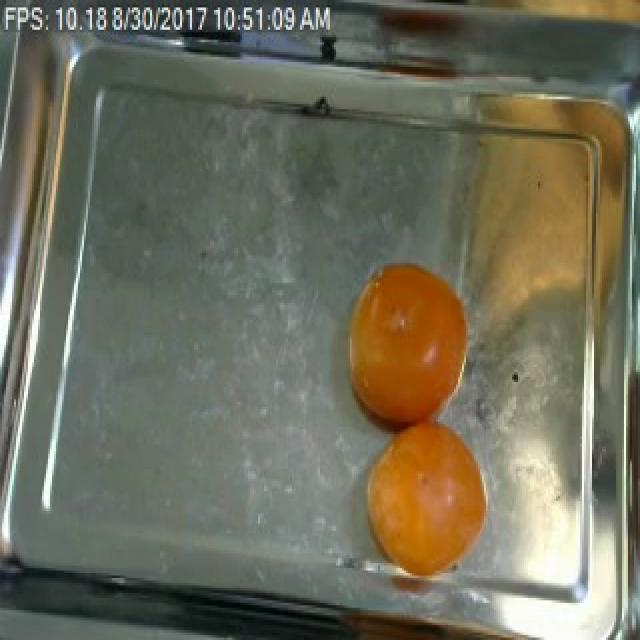Fruit: (348, 399, 502, 593), (336, 248, 482, 439)
